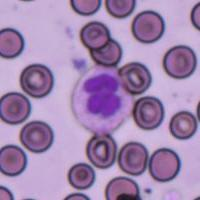N: (70, 66, 134, 136)
